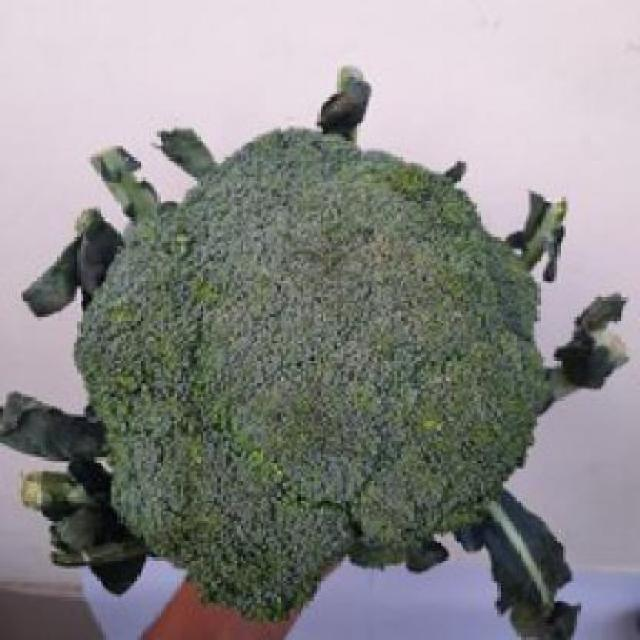broccoli: (76, 126, 561, 592)
